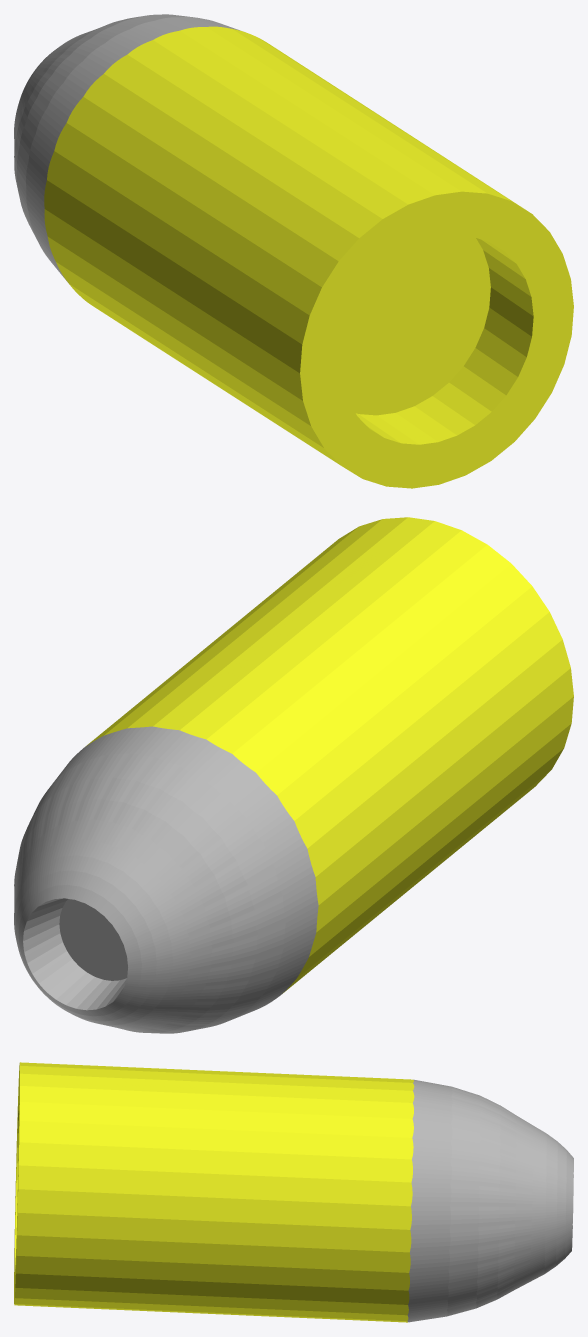
Rendered from Bullet.fbx.
3 views of the same model, one above another, from view 1: azimuth 30°, elevation 25°; view 2: azimuth 150°, elevation 25°; view 3: azimuth 270°, elevation 25° (orthographic). The views are drawn at different scales.
Parts seen in each view (by area): view 1: Cylinder; view 2: Cylinder; view 3: Cylinder.
Boxes of the visible parts, <box> form: Cylinder: <box>14,14,573,488</box>; Cylinder: <box>14,517,573,1033</box>; Cylinder: <box>14,1062,573,1322</box>.
Bounding box in the file's own units: 39.67 × 42.74 × 91.34.
